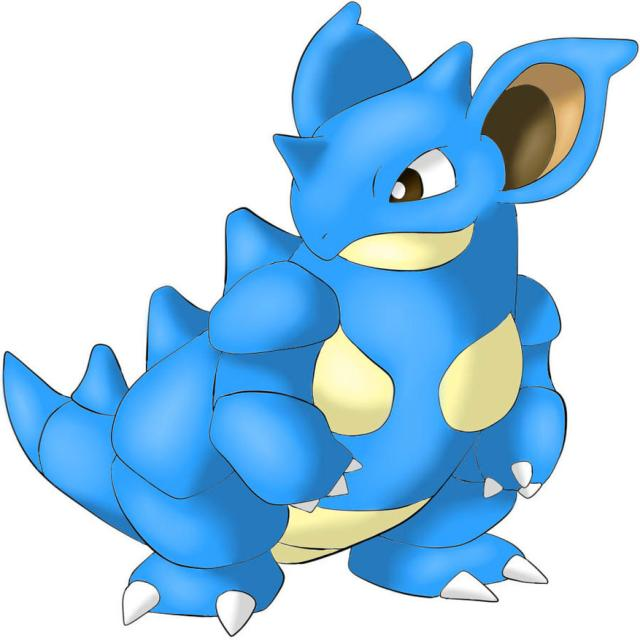Nidoqueen: (94, 0, 608, 615)
